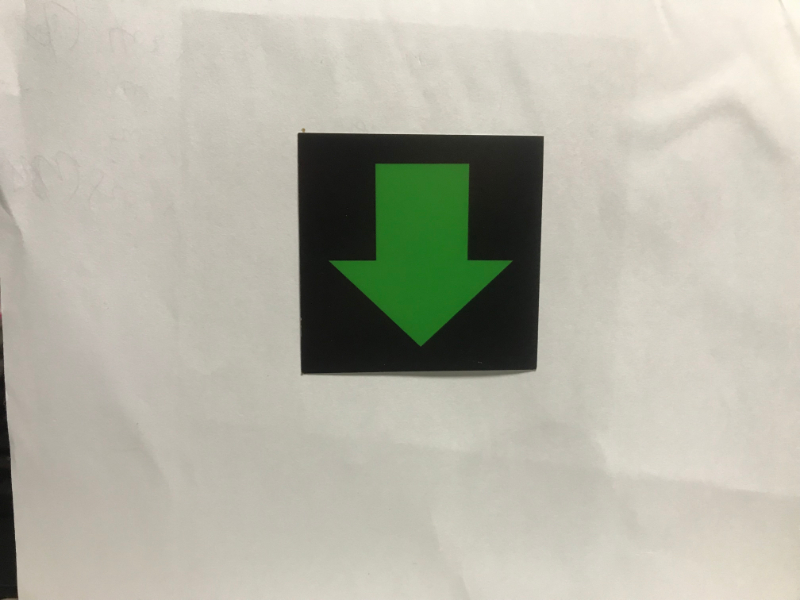RA-3: (305, 139, 533, 364)
